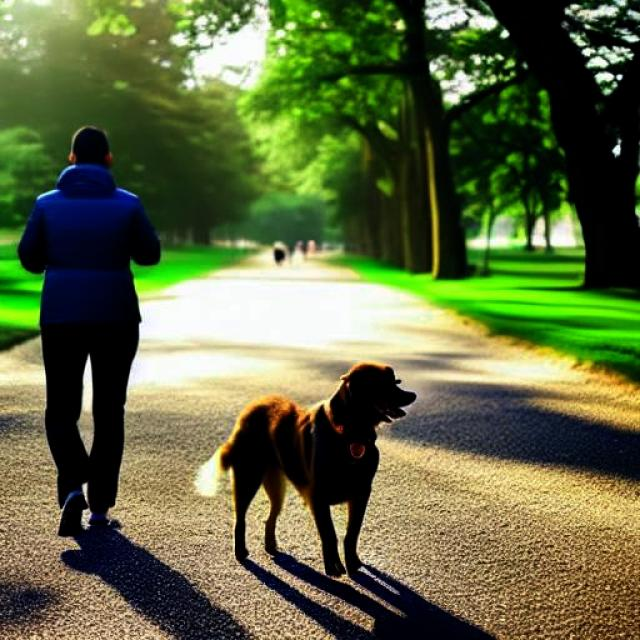Unleashed_Dog: (44, 286, 417, 578)
